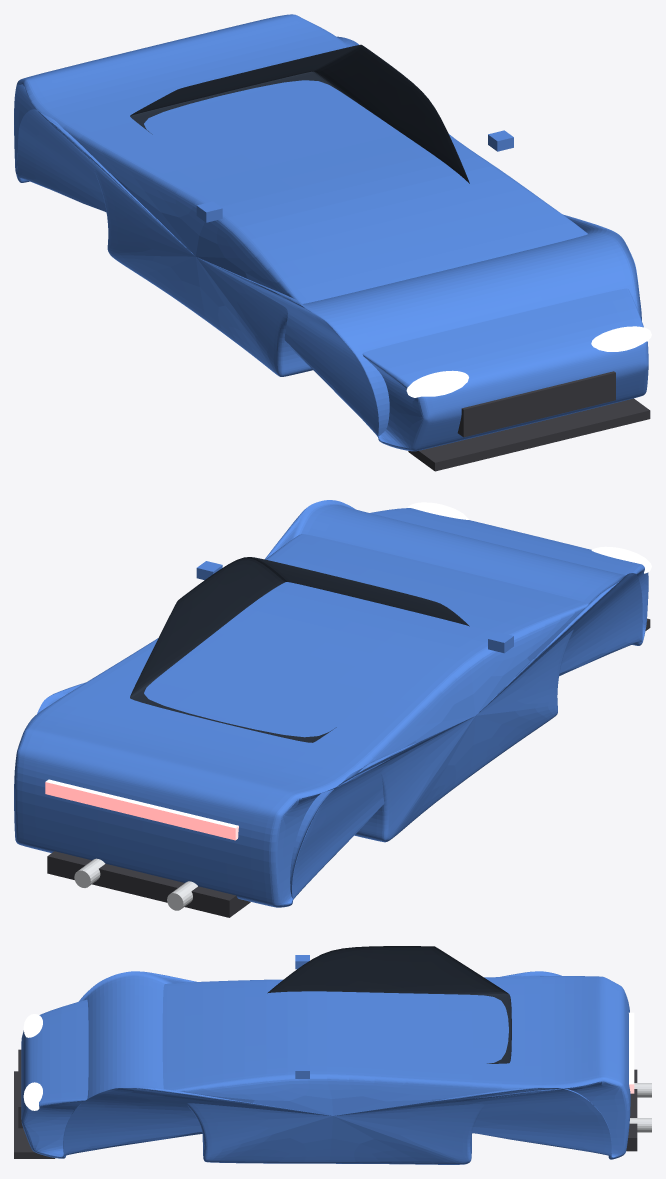
File: sport.glb
3 views of the same model, one above another, from view 1: azimuth 30°, elevation 25°; view 2: azimuth 150°, elevation 25°; view 3: azimuth 270°, elevation 25° (orthographic). The views are drawn at different scales.
Parts seen in each view (by area): view 1: SportBody, Canopy, Splitter, Grille, HeadL, HeadR; view 2: SportBody, Canopy, Diffuser, TailStrip, HeadL; view 3: SportBody, Canopy, Splitter, Diffuser, TailStrip, HeadR, HeadL.
Part boxes in pixels (box(x1,y1,x2,y2)): SportBody: box(14, 14, 648, 451); Canopy: box(130, 44, 469, 183); Splitter: box(408, 398, 650, 471); Grille: box(457, 371, 615, 437); HeadL: box(406, 370, 468, 397); HeadR: box(591, 326, 651, 351); SportBody: box(14, 500, 648, 907); Canopy: box(130, 557, 469, 742); Diffuser: box(47, 851, 250, 917); TailStrip: box(45, 779, 238, 840); HeadL: box(591, 546, 651, 573); SportBody: box(21, 971, 630, 1164); Canopy: box(267, 946, 511, 1063); Splitter: box(14, 1071, 55, 1158); Diffuser: box(626, 1069, 637, 1151); TailStrip: box(629, 1012, 634, 1093); HeadR: box(23, 1082, 42, 1110); HeadL: box(23, 1014, 42, 1037).
Size of the model in its own units: 1.88 by 1.04 by 4.33.
